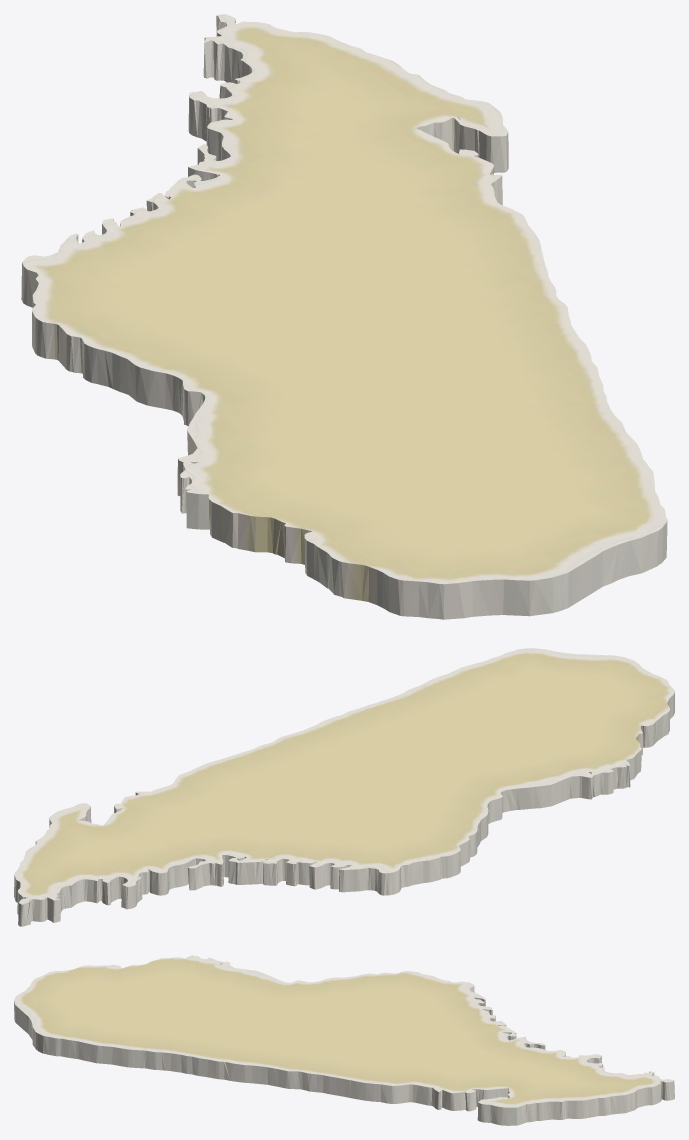
The model's file is madagascar.glb.
3 renders of one model, top to bottom at view 1: azimuth 30°, elevation 25°; view 2: azimuth 150°, elevation 25°; view 3: azimuth 270°, elevation 25°, orthographic. The views are drawn at different scales.
Visible parts, largest first — view 1: tripo_node_35f4a365-82c6-4e41-93a3-85ef97a30e7b; view 2: tripo_node_35f4a365-82c6-4e41-93a3-85ef97a30e7b; view 3: tripo_node_35f4a365-82c6-4e41-93a3-85ef97a30e7b.
Boxes of the visible parts, <box> form: tripo_node_35f4a365-82c6-4e41-93a3-85ef97a30e7b: <box>21,14,667,619</box>; tripo_node_35f4a365-82c6-4e41-93a3-85ef97a30e7b: <box>14,648,674,926</box>; tripo_node_35f4a365-82c6-4e41-93a3-85ef97a30e7b: <box>14,955,674,1125</box>.
Bounding box in the file's own units: 0.5472 × 0.03 × 1.
1 material, 1 textured.
